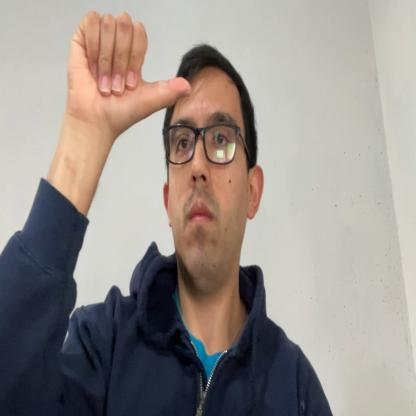A: (66, 10, 192, 134)
